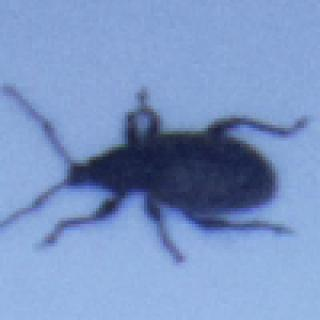bvw: (0, 76, 310, 262)
